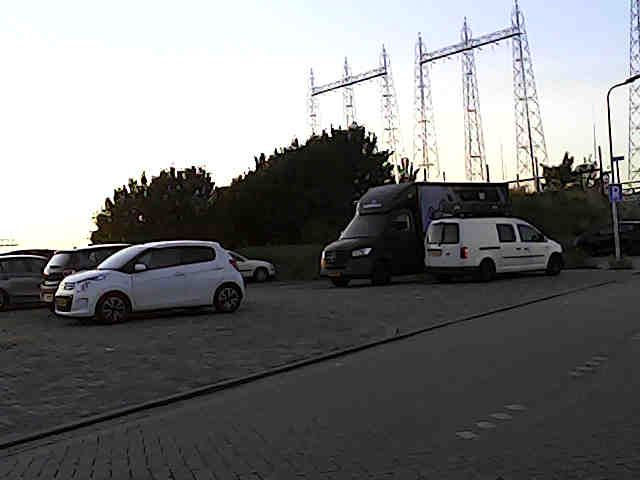suv: (55, 241, 244, 322), (424, 217, 563, 280), (40, 243, 129, 307), (0, 255, 46, 310), (228, 251, 275, 281), (618, 220, 639, 254), (0, 249, 54, 260)
whitevan: (320, 182, 509, 285)
